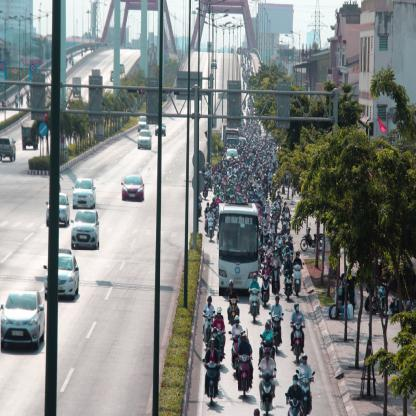bus: (220, 204, 260, 298)
car: (1, 293, 46, 358), (71, 212, 100, 252), (73, 179, 97, 211), (122, 174, 145, 202), (3, 138, 16, 165), (138, 132, 153, 151), (138, 118, 149, 132)
motorbike: (259, 349, 277, 412), (205, 341, 221, 406), (291, 304, 308, 361), (239, 337, 253, 397), (301, 358, 313, 416), (249, 278, 261, 326), (287, 377, 301, 416), (294, 252, 305, 298), (273, 250, 283, 295), (206, 209, 216, 242)
